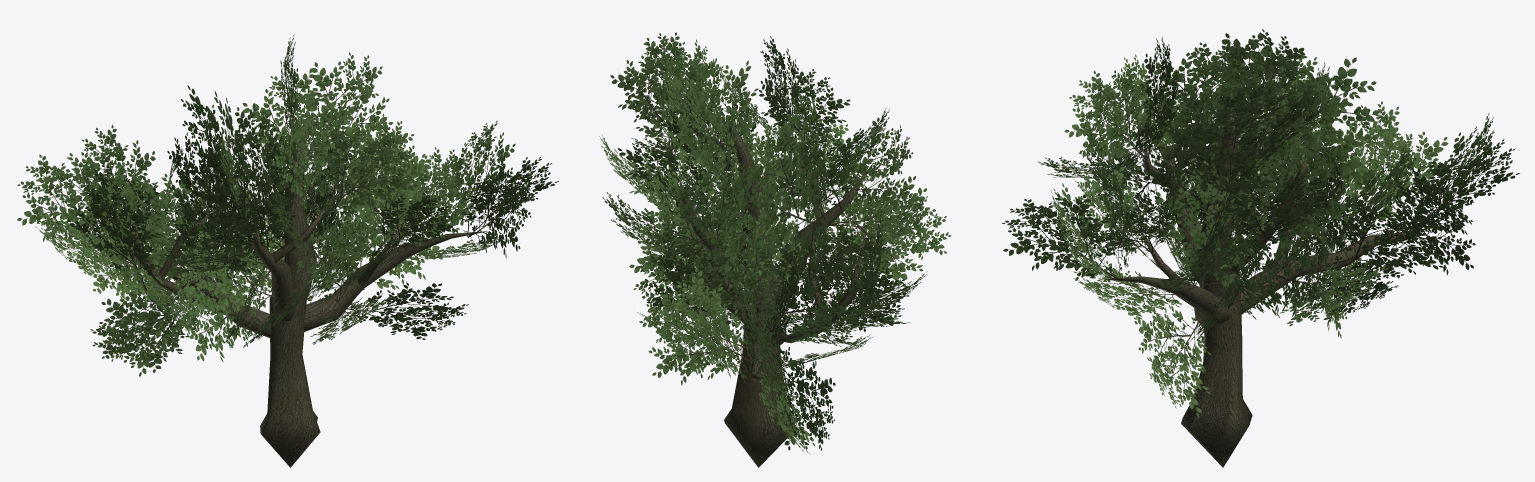
The model's file is Sun_0014_Large_tree_2.fbx.
3 renders of one model, left to right at view 1: azimuth 30°, elevation 25°; view 2: azimuth 150°, elevation 25°; view 3: azimuth 270°, elevation 25°, orthographic. The views are drawn at different scales.
Parts seen in each view (by area): view 1: Sun_0014_Large_tree_2; view 2: Sun_0014_Large_tree_2; view 3: Sun_0014_Large_tree_2.
Part boxes in pixels (x1=…): Sun_0014_Large_tree_2: x1=17, y1=34, x2=558, y2=467; Sun_0014_Large_tree_2: x1=599, y1=32, x2=950, y2=467; Sun_0014_Large_tree_2: x1=1002, y1=29, x2=1519, y2=467.
Size of the model in its own units: 1057 by 1049 by 1069.
